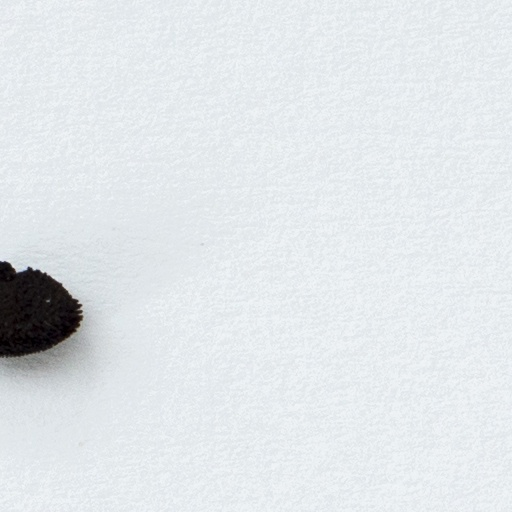Agrostemma: (0, 260, 86, 362)
